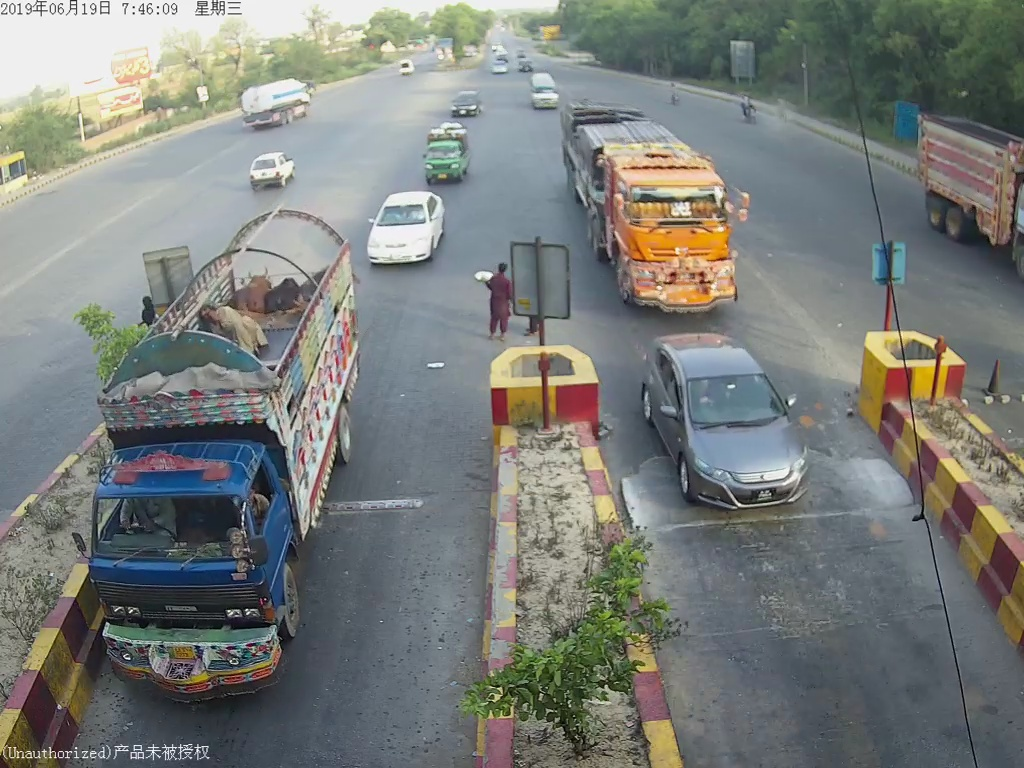Cat-1: (646, 342, 821, 515), (368, 188, 446, 271), (423, 134, 465, 181)
Cat-4: (84, 207, 360, 693)
Cat-5: (553, 92, 743, 312)
